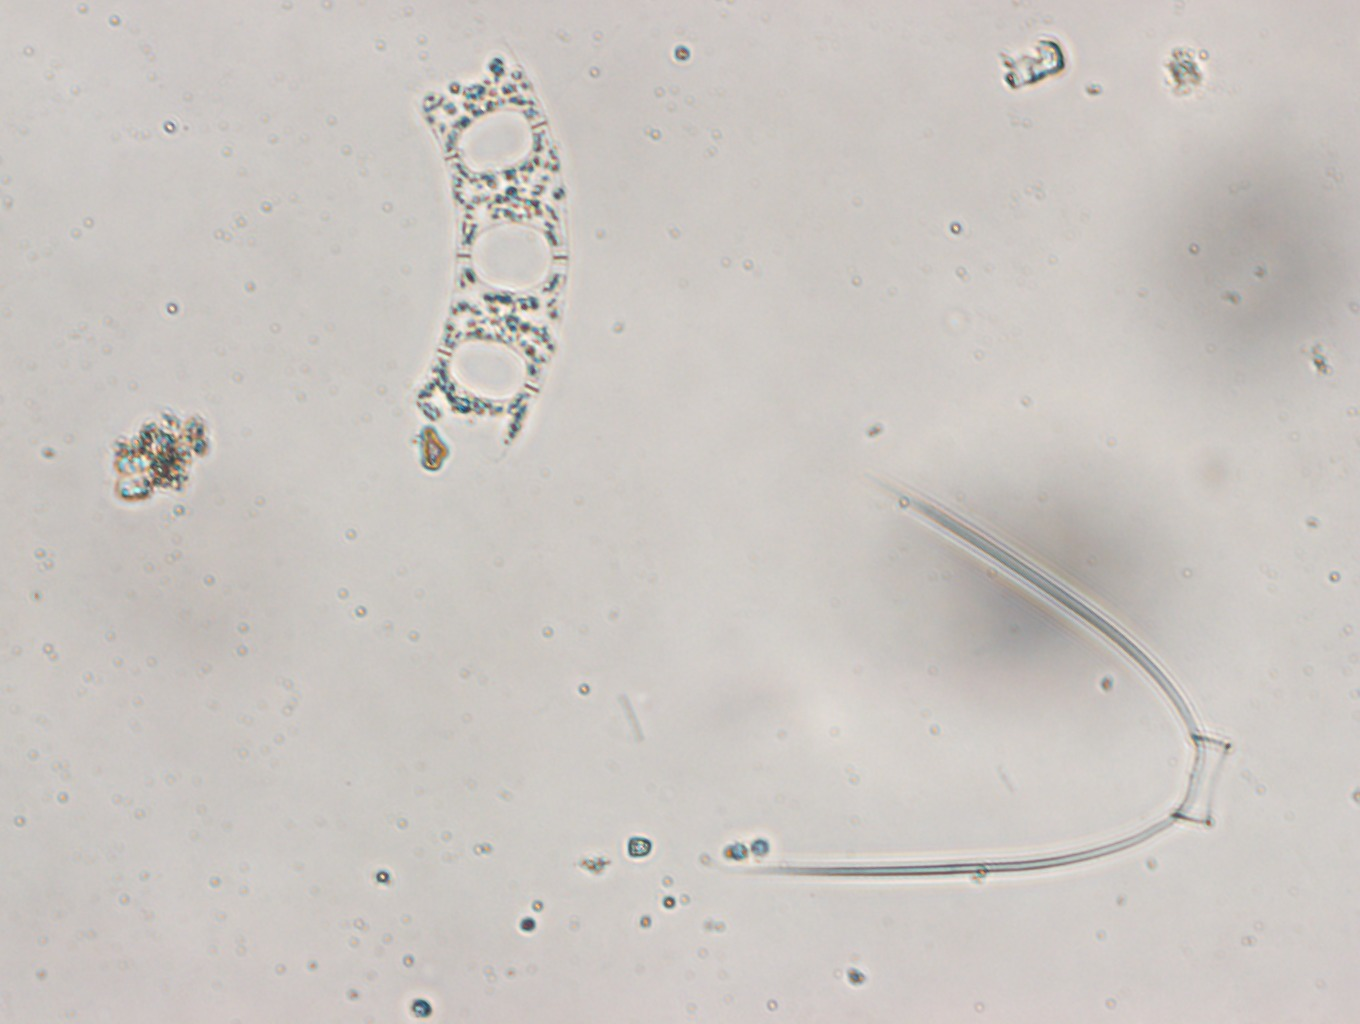chaetoceros: (720, 475, 1230, 874)
eucampia: (412, 37, 568, 475)
